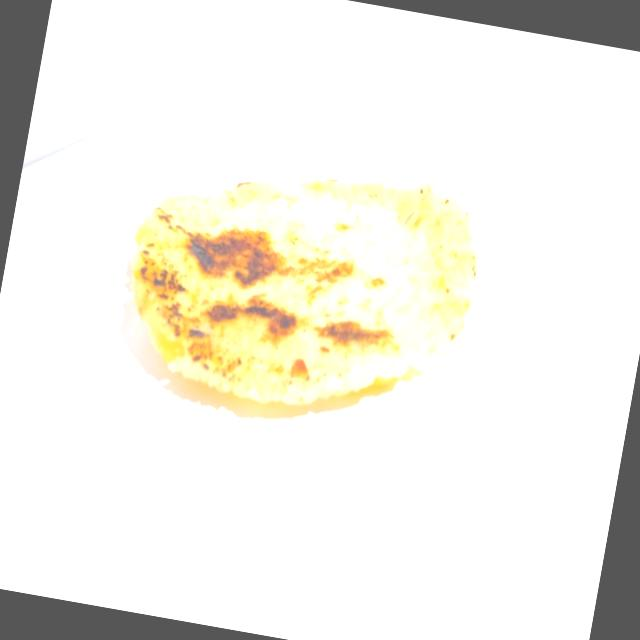Mbeju: (97, 121, 500, 442)
